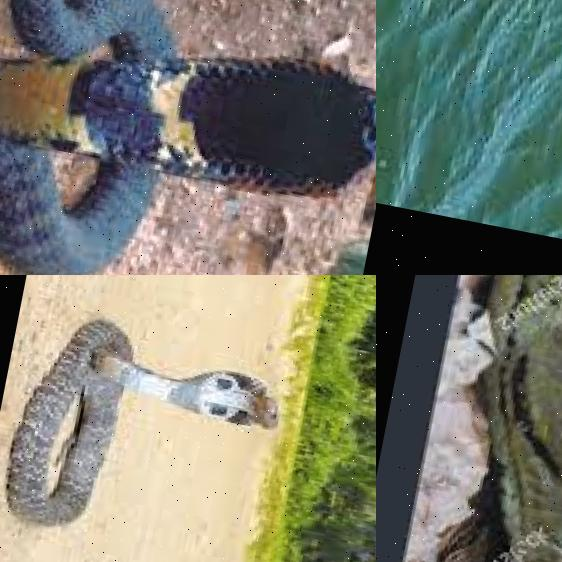snake: (0, 0, 376, 275), (4, 300, 301, 562), (413, 275, 562, 562)
